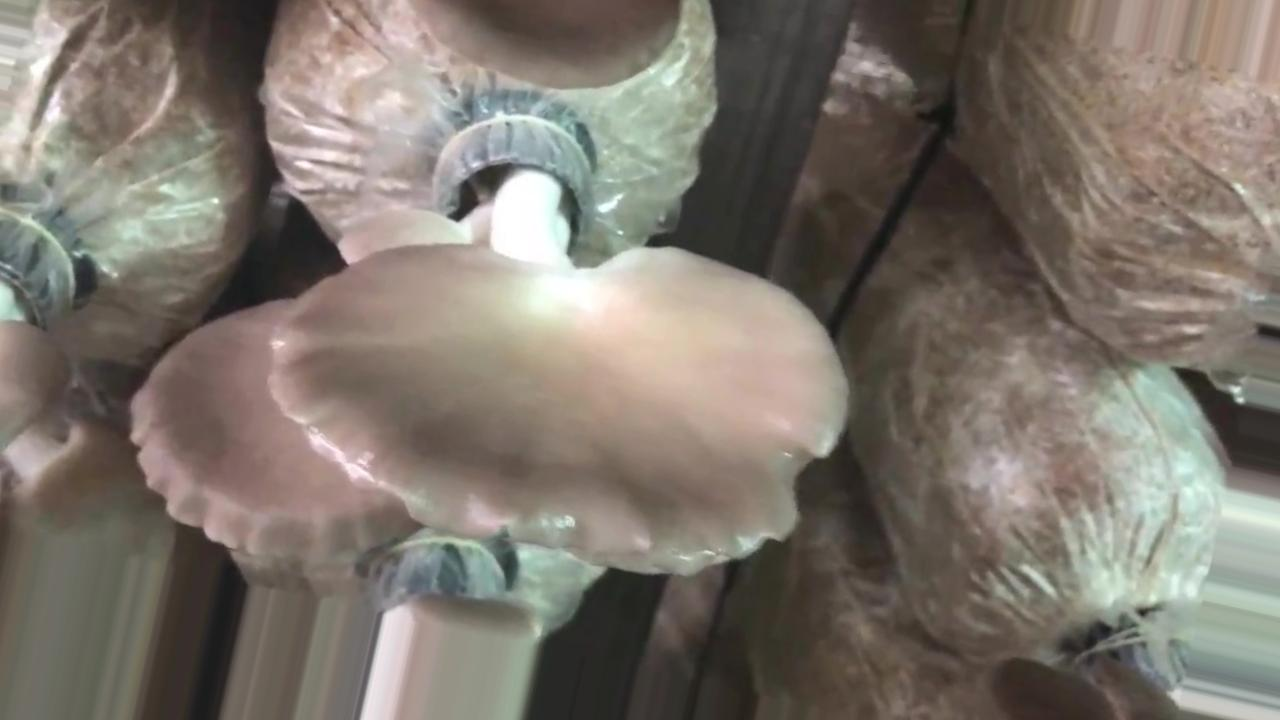nam: (267, 106, 855, 581), (125, 295, 423, 566), (1, 198, 136, 526), (407, 1, 680, 93)
